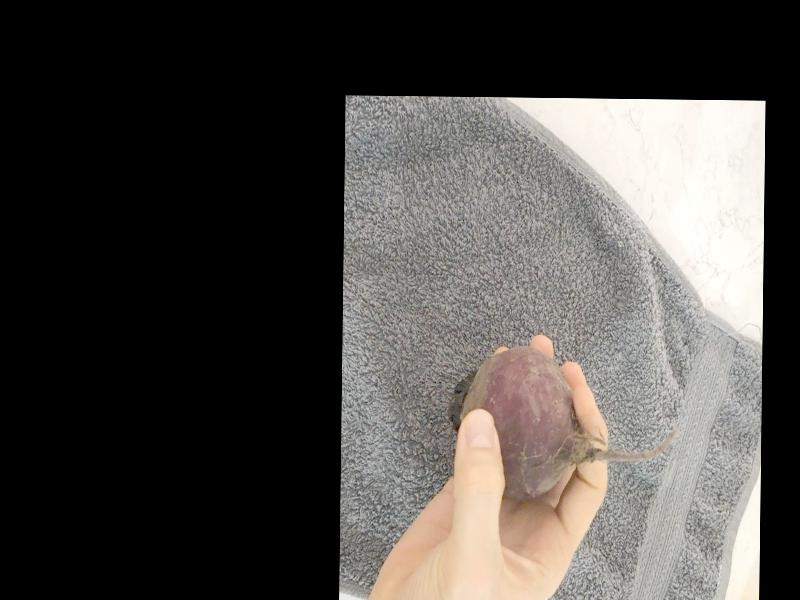Beet: (447, 345, 678, 501)
